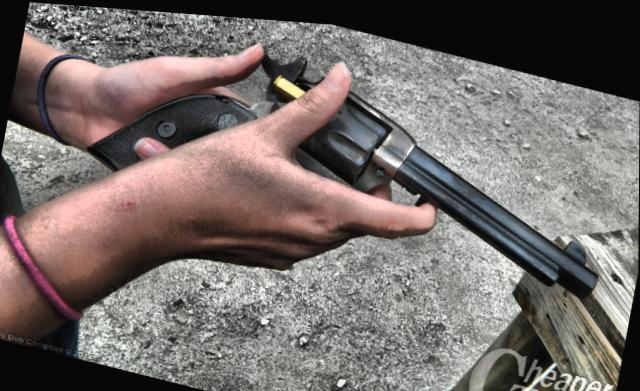pistol: (77, 5, 623, 294)
